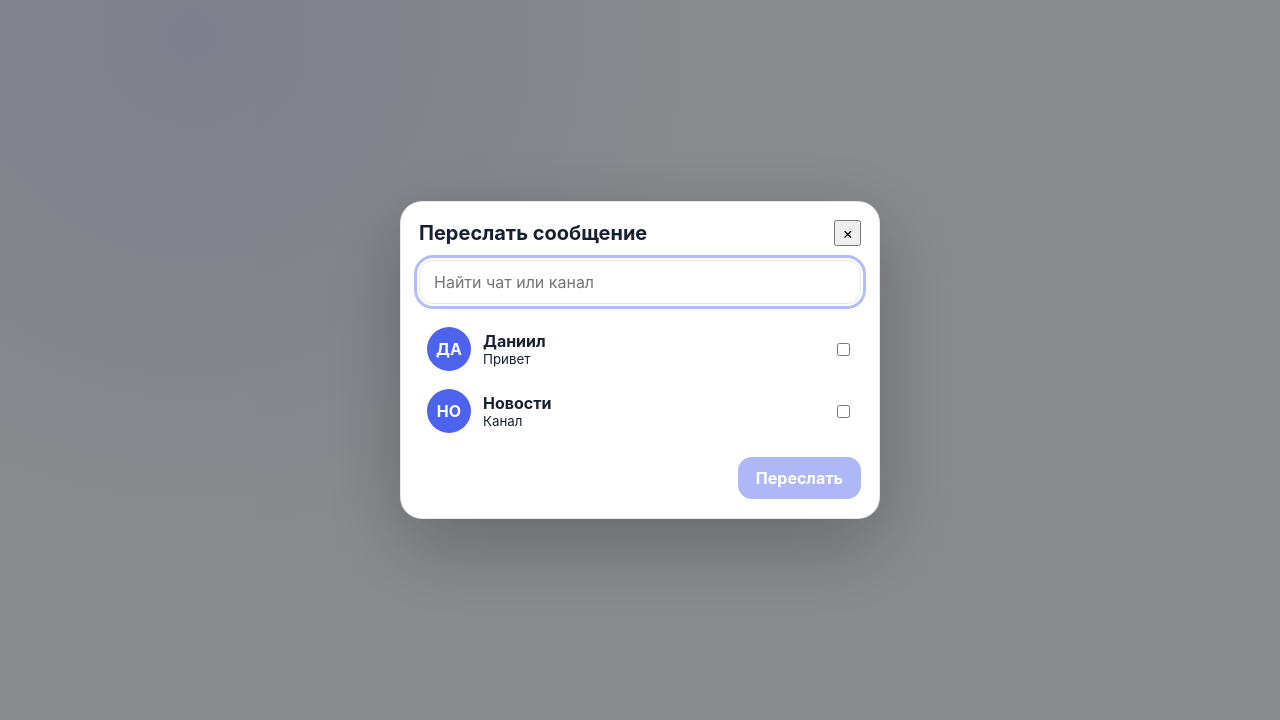
Test: ForwardMessagePicker › searches, selects up to ten destinations, and confirms once
Expected: the button "Переслать" is disabled, [738,457,861,499]
Type "канал" into the search field at (640, 282), box [419,260,861,304]
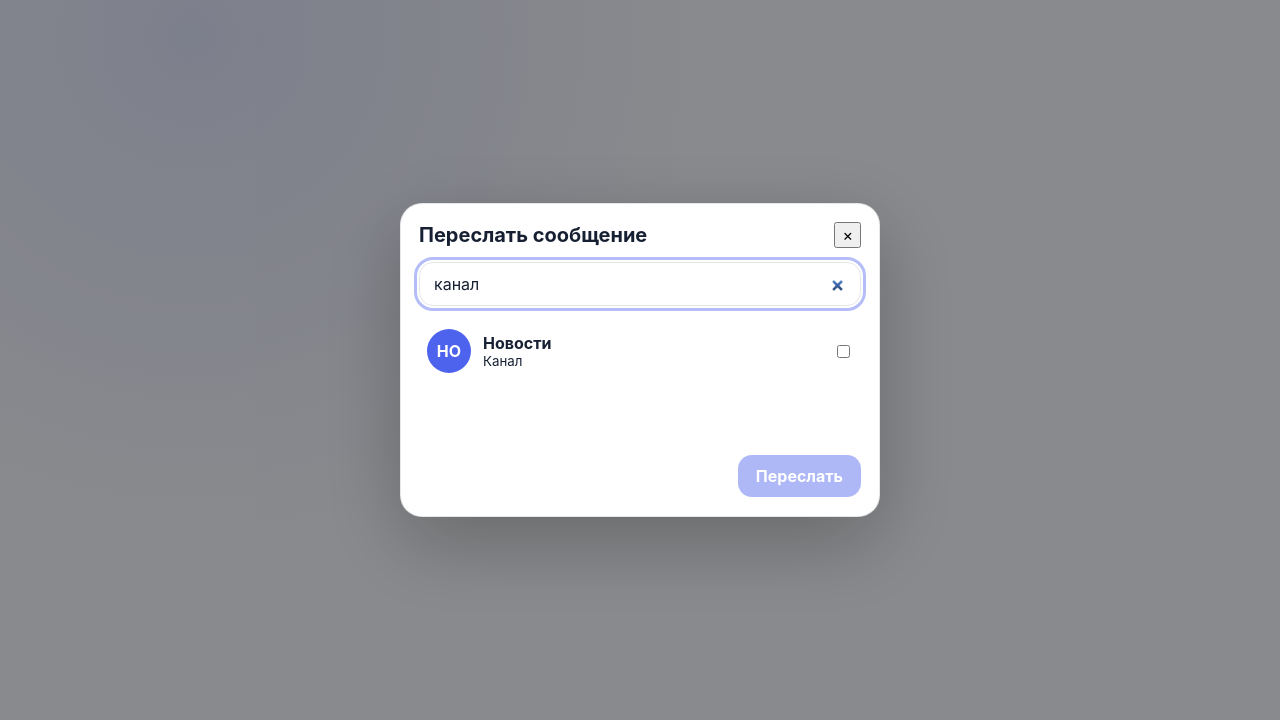
Expected: the text "Новости" is shown, [483,333,552,353]
Result: the text "Даниил" is gone
Click the checkbox at (844, 351), box [837,344,850,358]
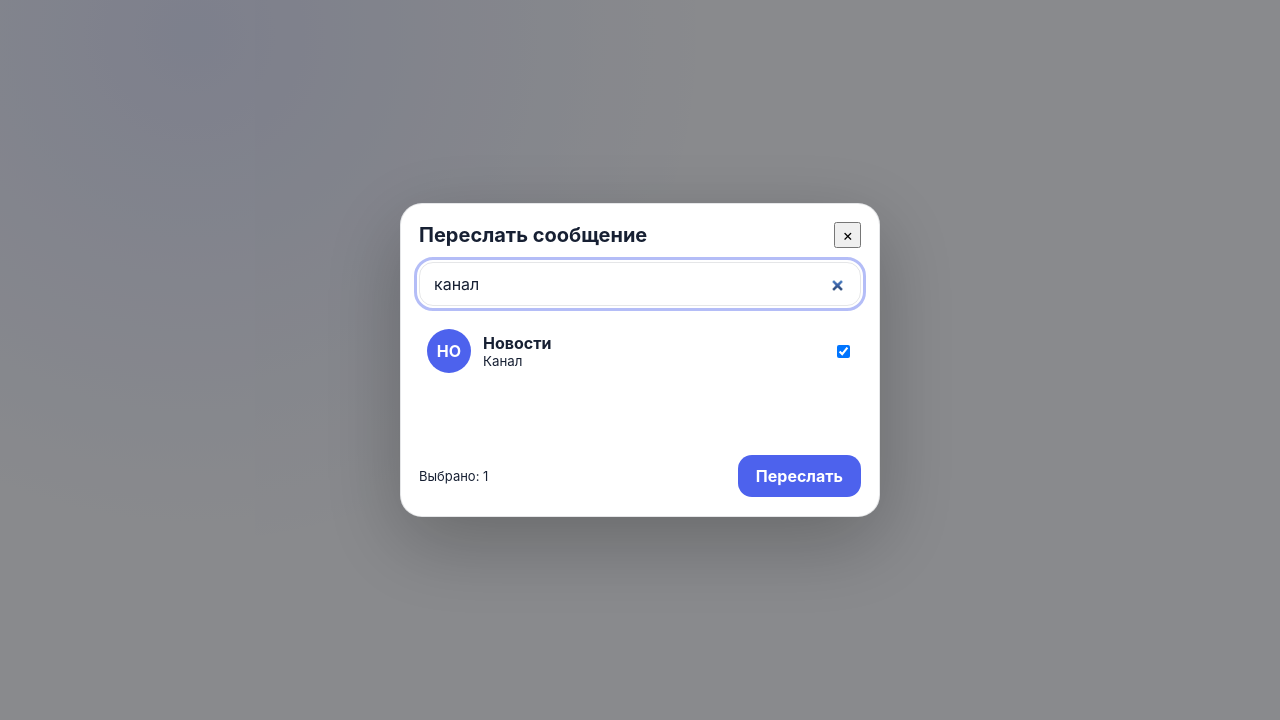
Click the button "Переслать" at (799, 476), box [738,455,861,497]
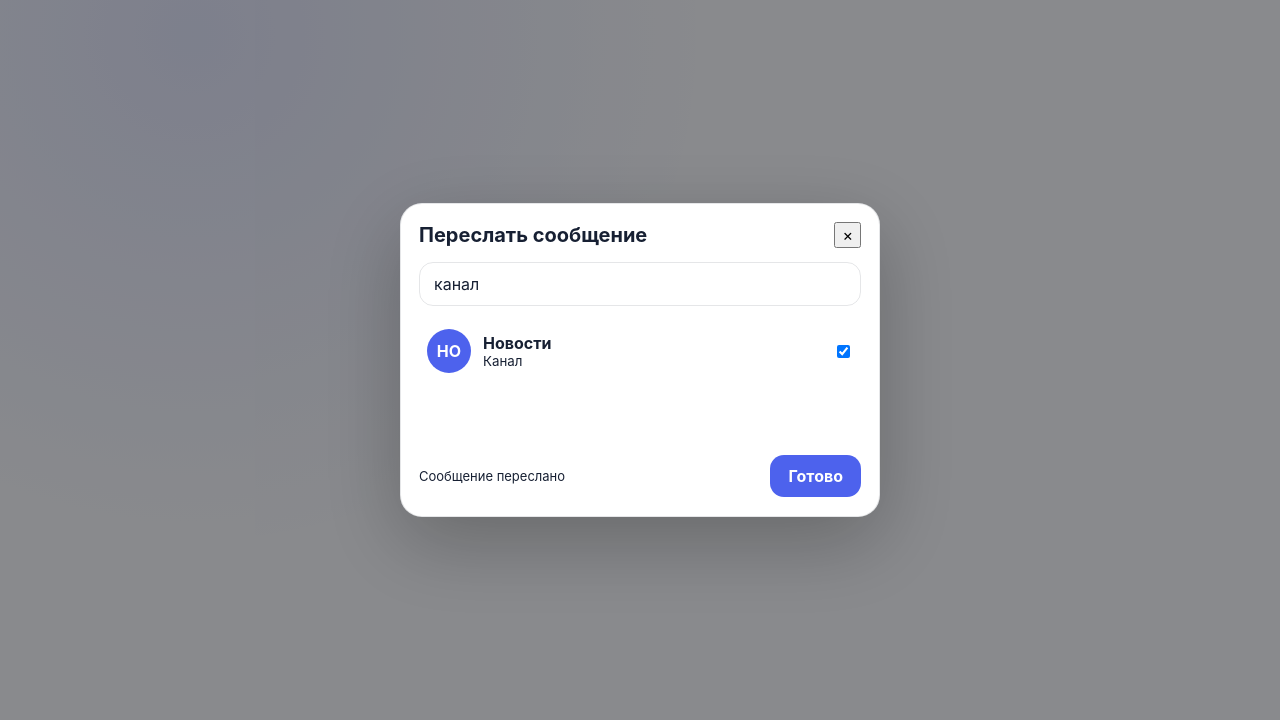
Result: the text "Сообщение переслано" is shown at [419,468,565,484]
